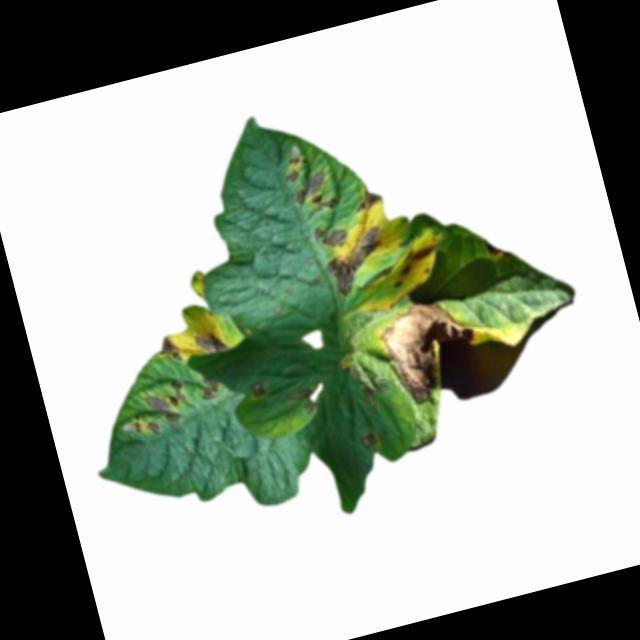Early_blight: (375, 288, 486, 406), (317, 222, 393, 301), (275, 138, 340, 220), (116, 376, 194, 442), (385, 240, 443, 290), (192, 324, 232, 358), (311, 221, 348, 251), (350, 184, 384, 214), (154, 333, 184, 366), (196, 372, 223, 400), (246, 374, 269, 401), (485, 230, 506, 258), (356, 428, 377, 449)
